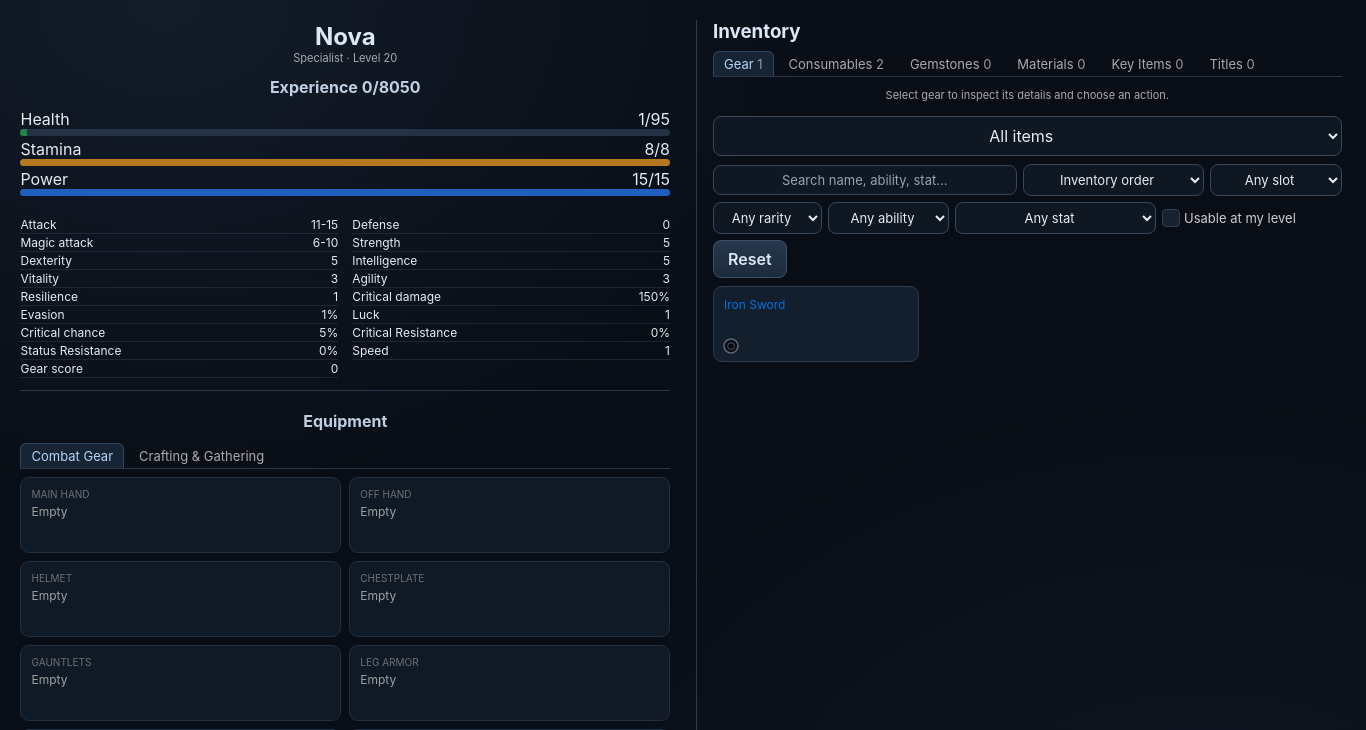
Scenario: cards open details without consuming; Use heals and updates the popup count
Click the tab "Consumables 2".
click(836, 64)  # box [778,52,895,76]
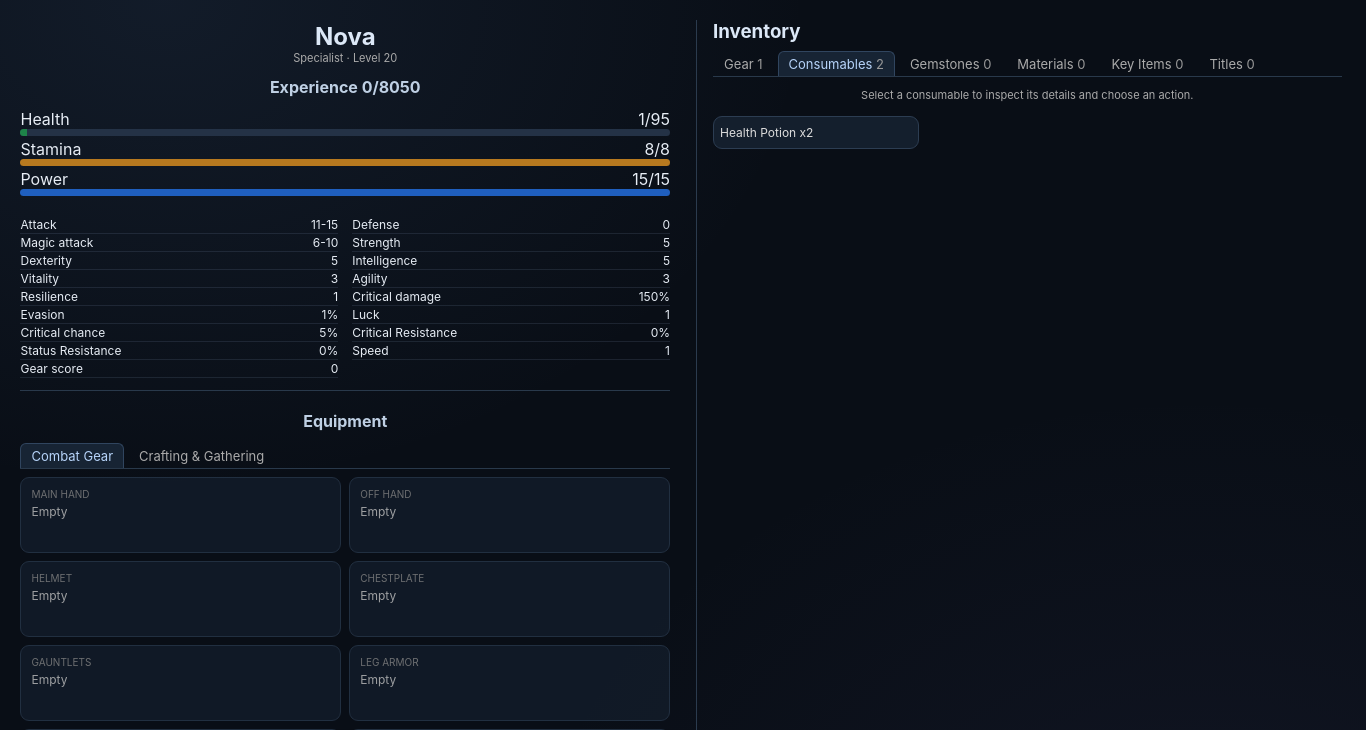
Click the button "Health Potion x2".
click(816, 133)  # box [713,116,918,150]
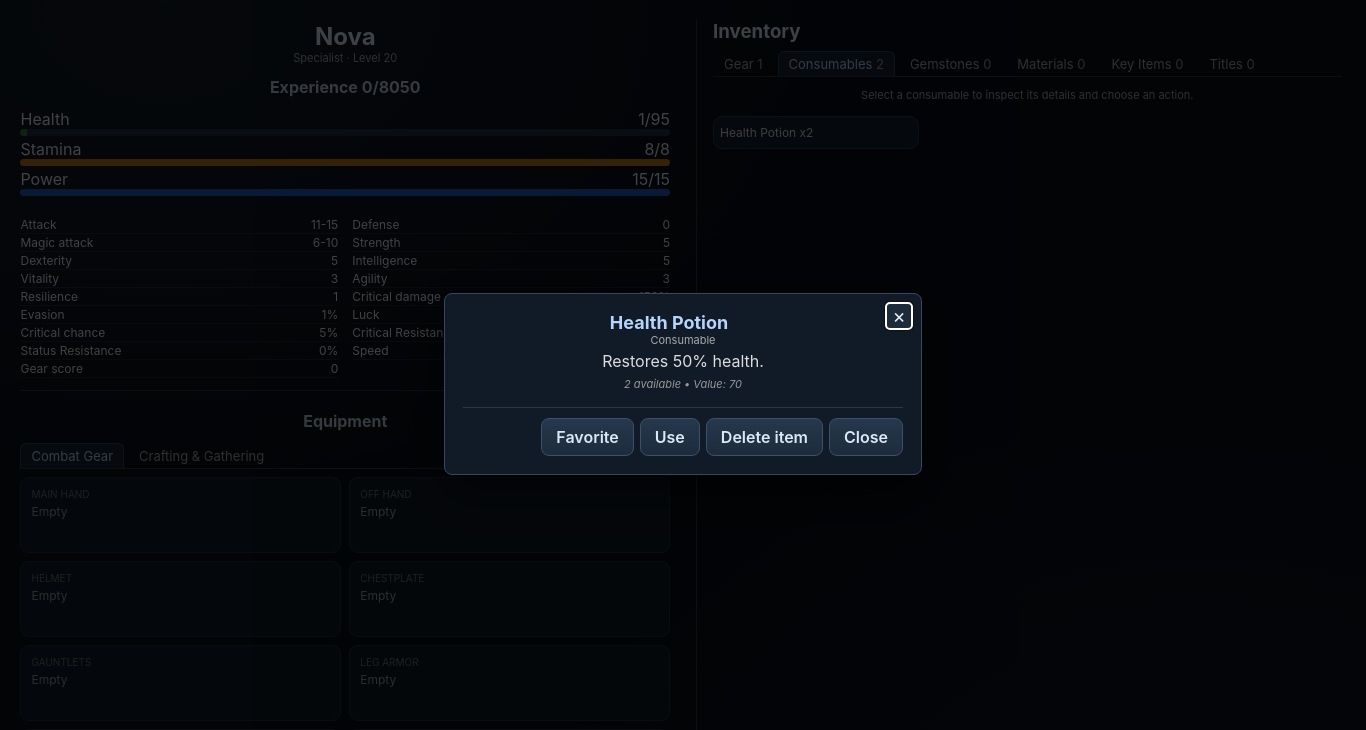
Expected: the text "Restores 50% health." is shown, [602,351,764,371]
Expected: the text "2 available • Value: 70" is shown, [624,377,742,391]
Click the button "Use".
click(670, 437)  # box [640,418,700,456]
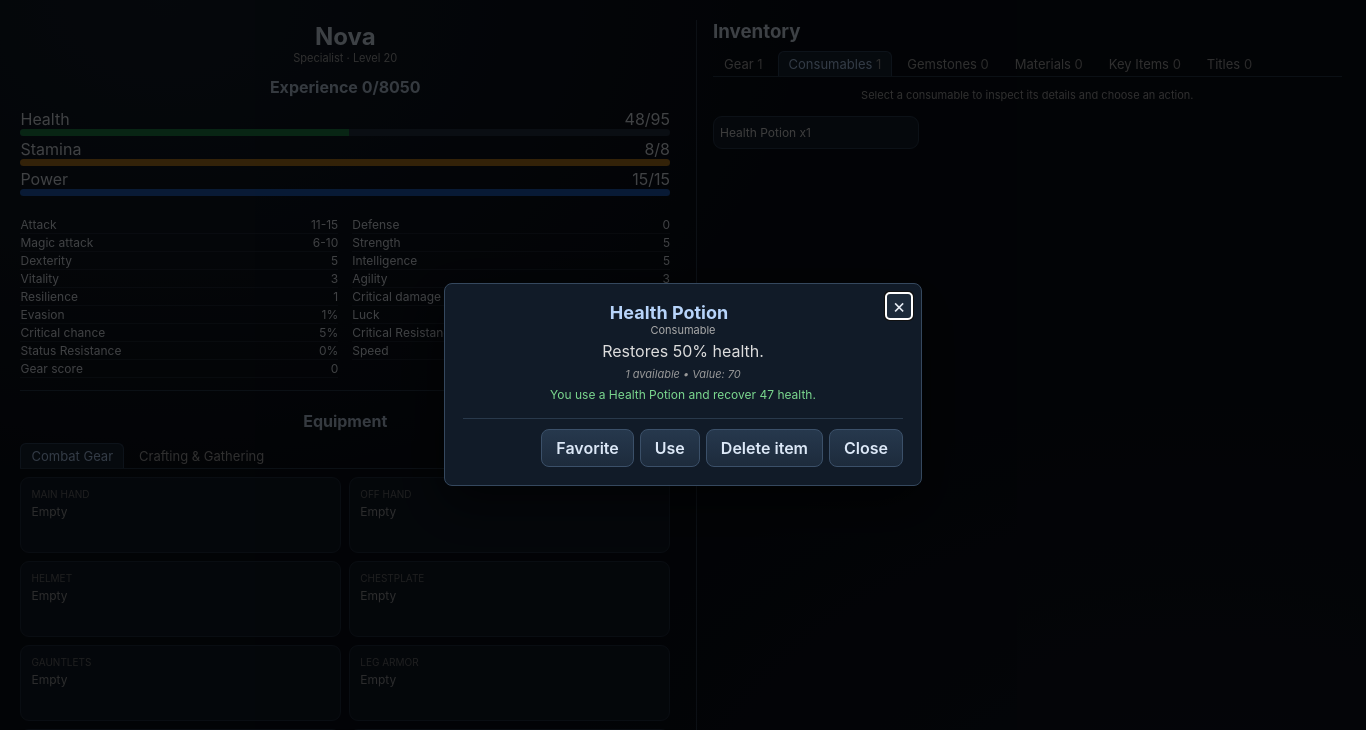
Expected: the text "1 available • Value: 70" is shown, [625,366,741,380]
Expected: the message shows "recover", [550,386,816,402]
Click the button "Use".
click(670, 448)  # box [640,428,700,466]
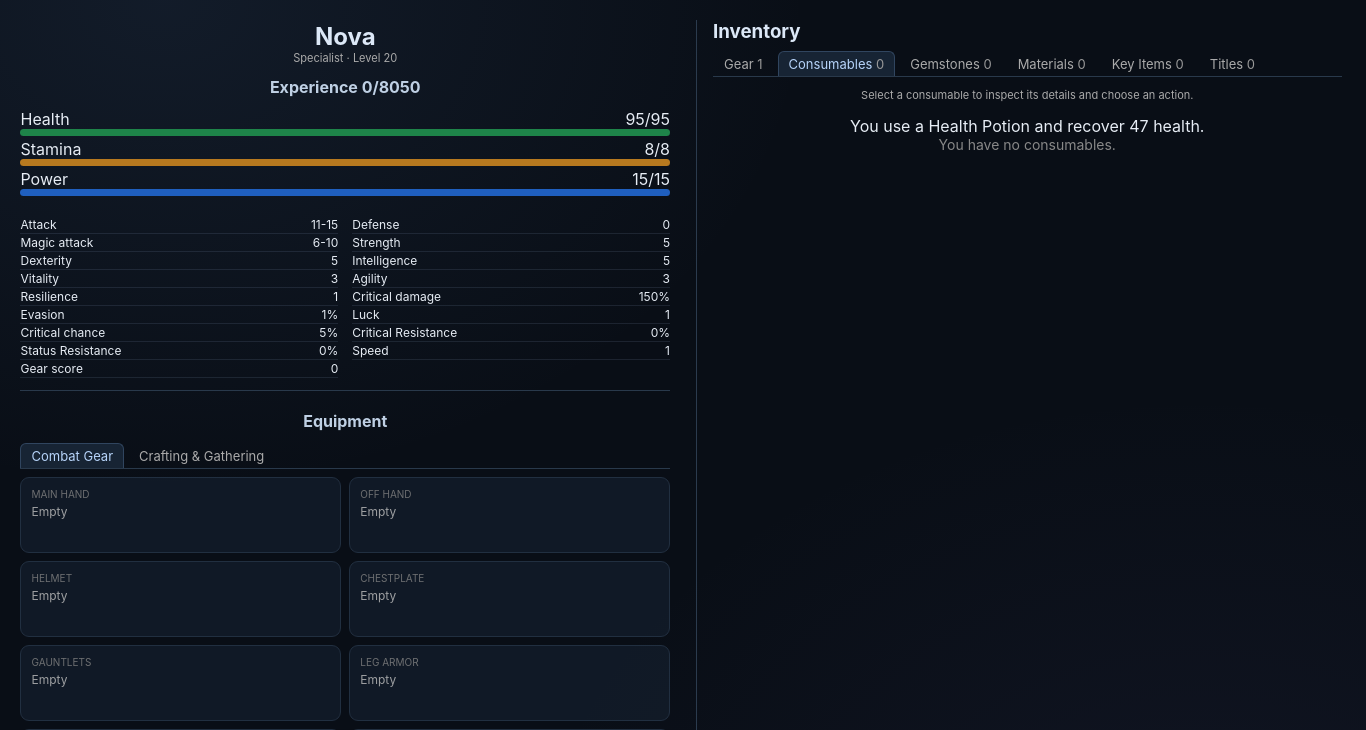
Expected: the dialog is gone
